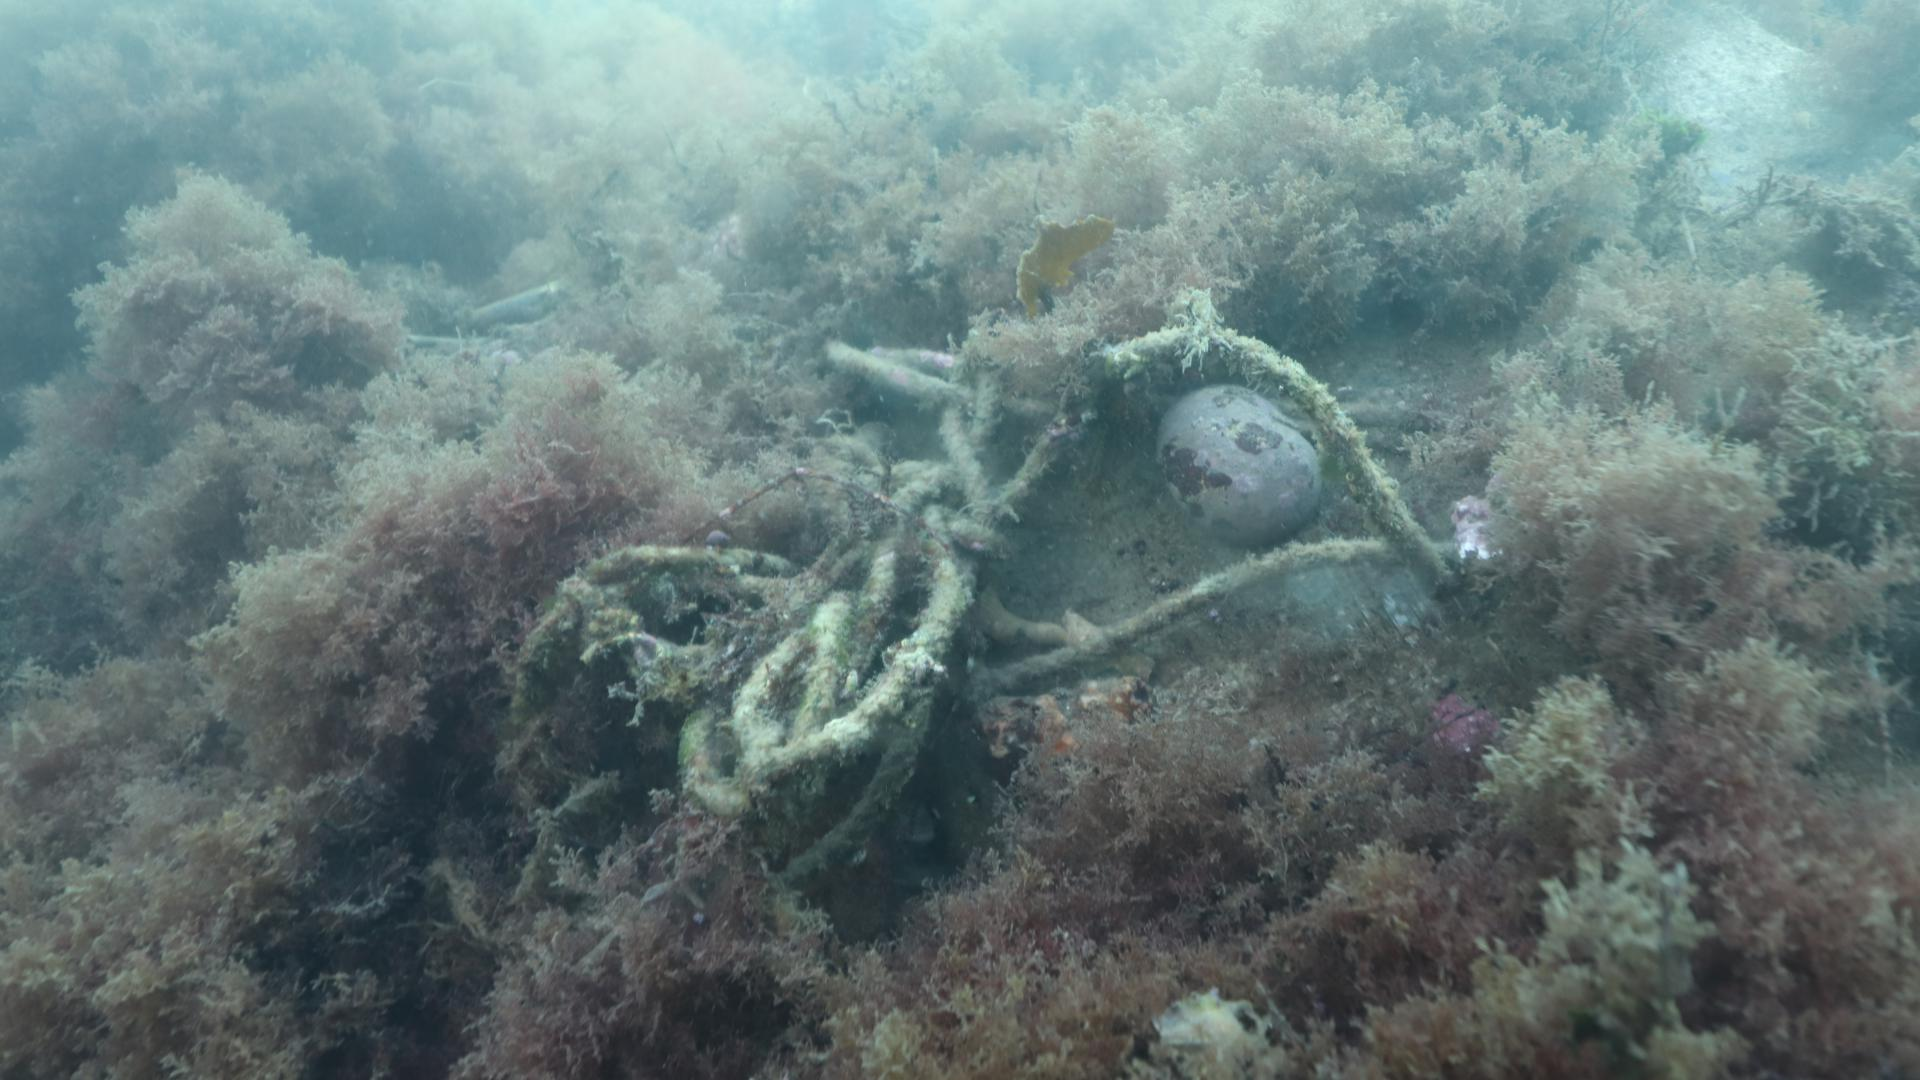bundle of ropes: (504, 316, 1465, 906)
